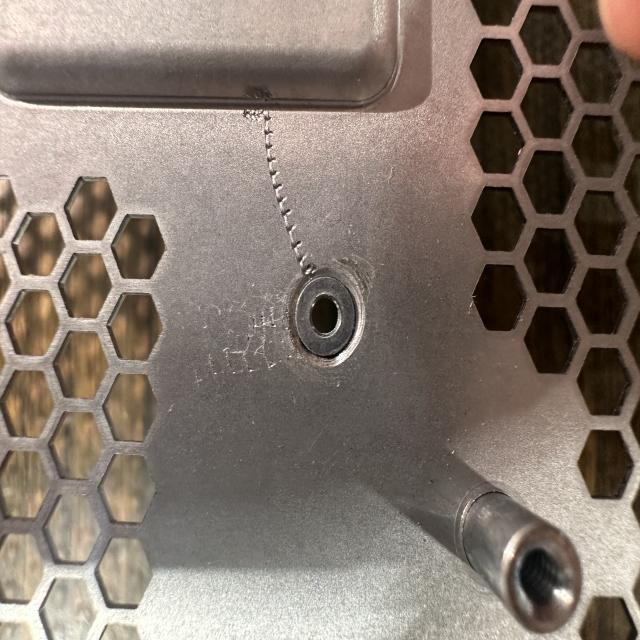Missing screw: (283, 262, 377, 372)
